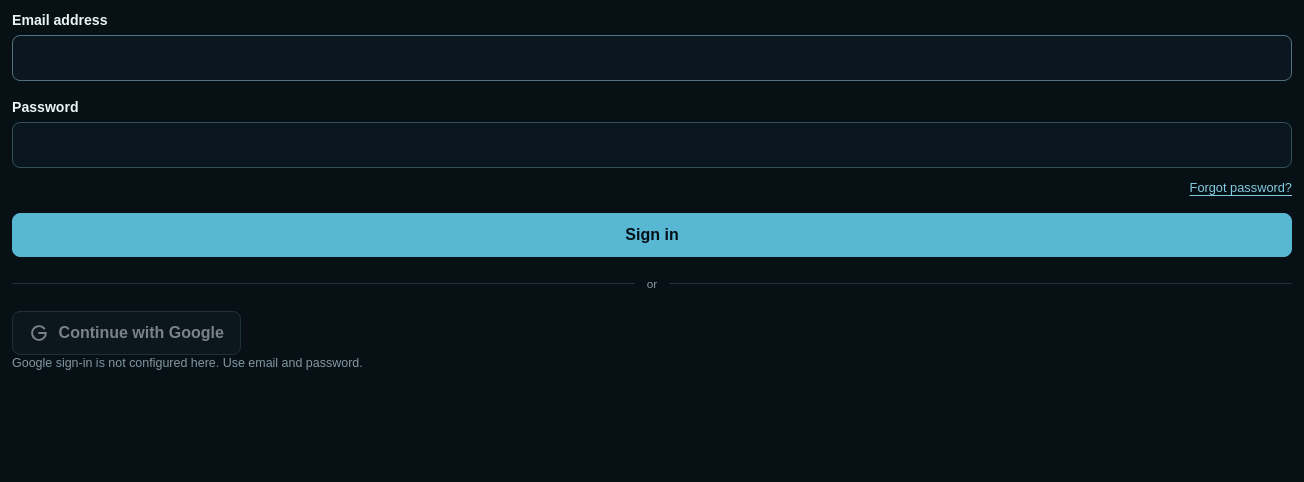
Test: authentication forms › preserves entries when the server rejects sign-in
This screenshot has width=1304, height=482.
In the field labelled "Email address": (652,58) [12,35,1292,81], type "pilot@example.test"
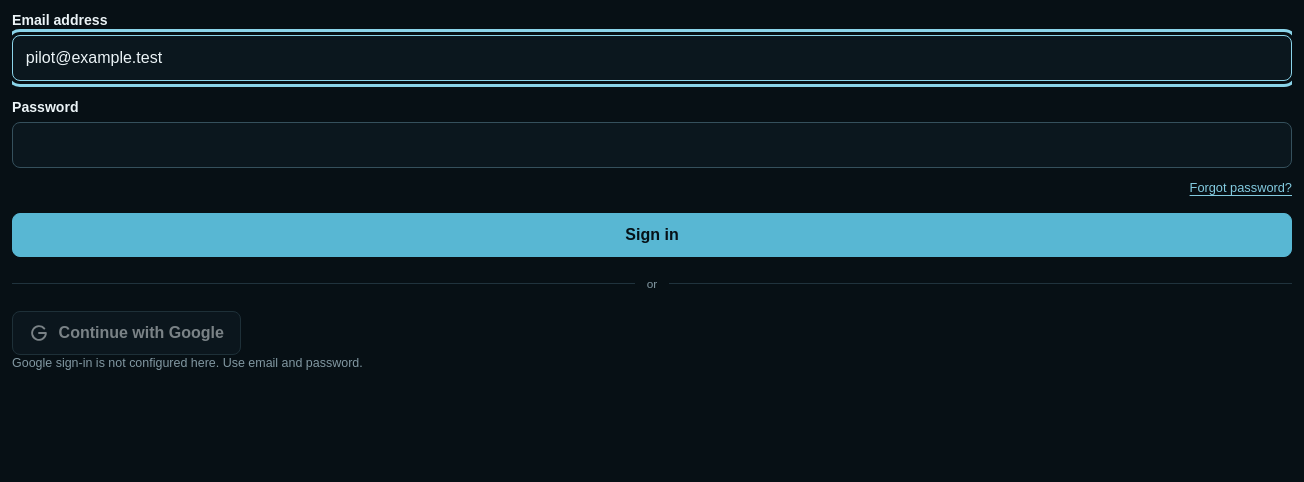
In the password field labelled "Password": (652,145) [12,122,1292,168], type "not-the-password"
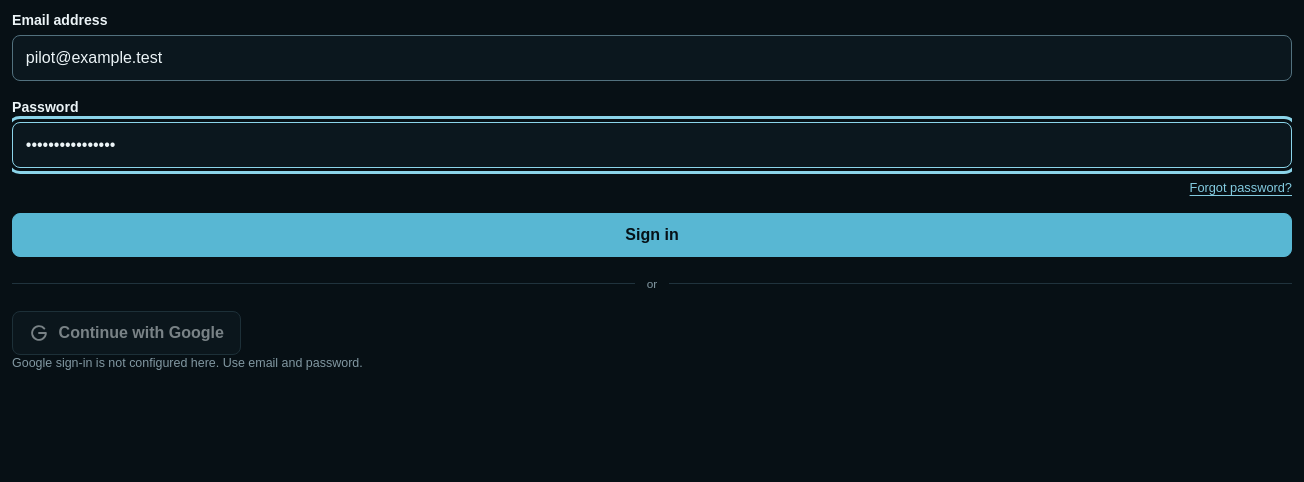
Click the button "Sign in": (652,235) [12,213,1292,257]
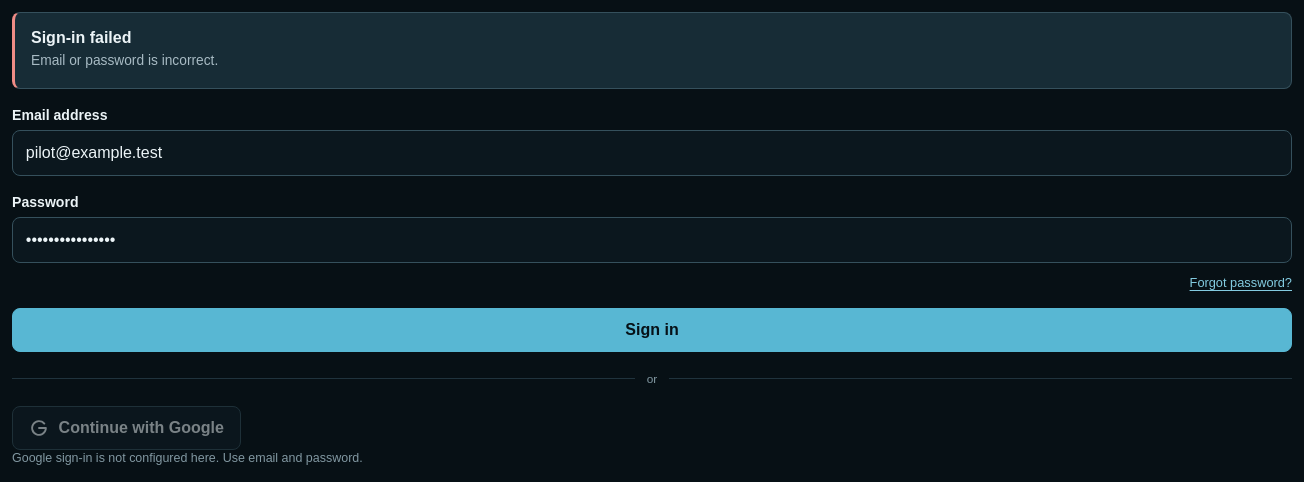
expect the button "Continue with Google" is disabled: met, box [12,406,241,450]
expect the text "Email or password is incorrect." is shown: met, box [31,50,218,72]
